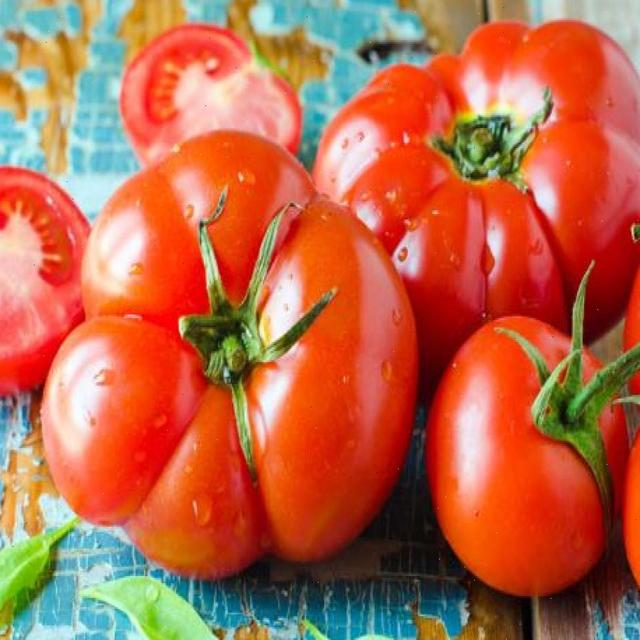Healthy Fruit: (139, 108, 346, 297)
